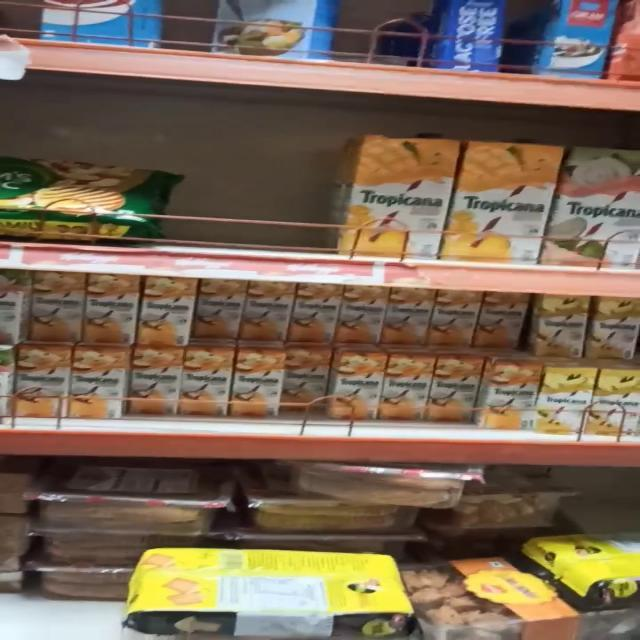Tropicana: (334, 129, 448, 251), (450, 131, 550, 266), (555, 144, 640, 276), (82, 272, 148, 346), (16, 274, 84, 344), (138, 274, 198, 348), (525, 294, 589, 359), (10, 348, 72, 413), (125, 348, 183, 411), (71, 346, 125, 412), (196, 278, 251, 342), (538, 366, 588, 432), (333, 352, 388, 412), (286, 286, 340, 346), (424, 360, 484, 414), (482, 366, 534, 428), (183, 350, 234, 412), (332, 282, 384, 341), (233, 354, 285, 412), (244, 284, 294, 344), (384, 286, 431, 348), (428, 290, 476, 350), (382, 356, 429, 416), (589, 298, 632, 362), (477, 292, 525, 348), (592, 369, 640, 425), (288, 354, 329, 408)
